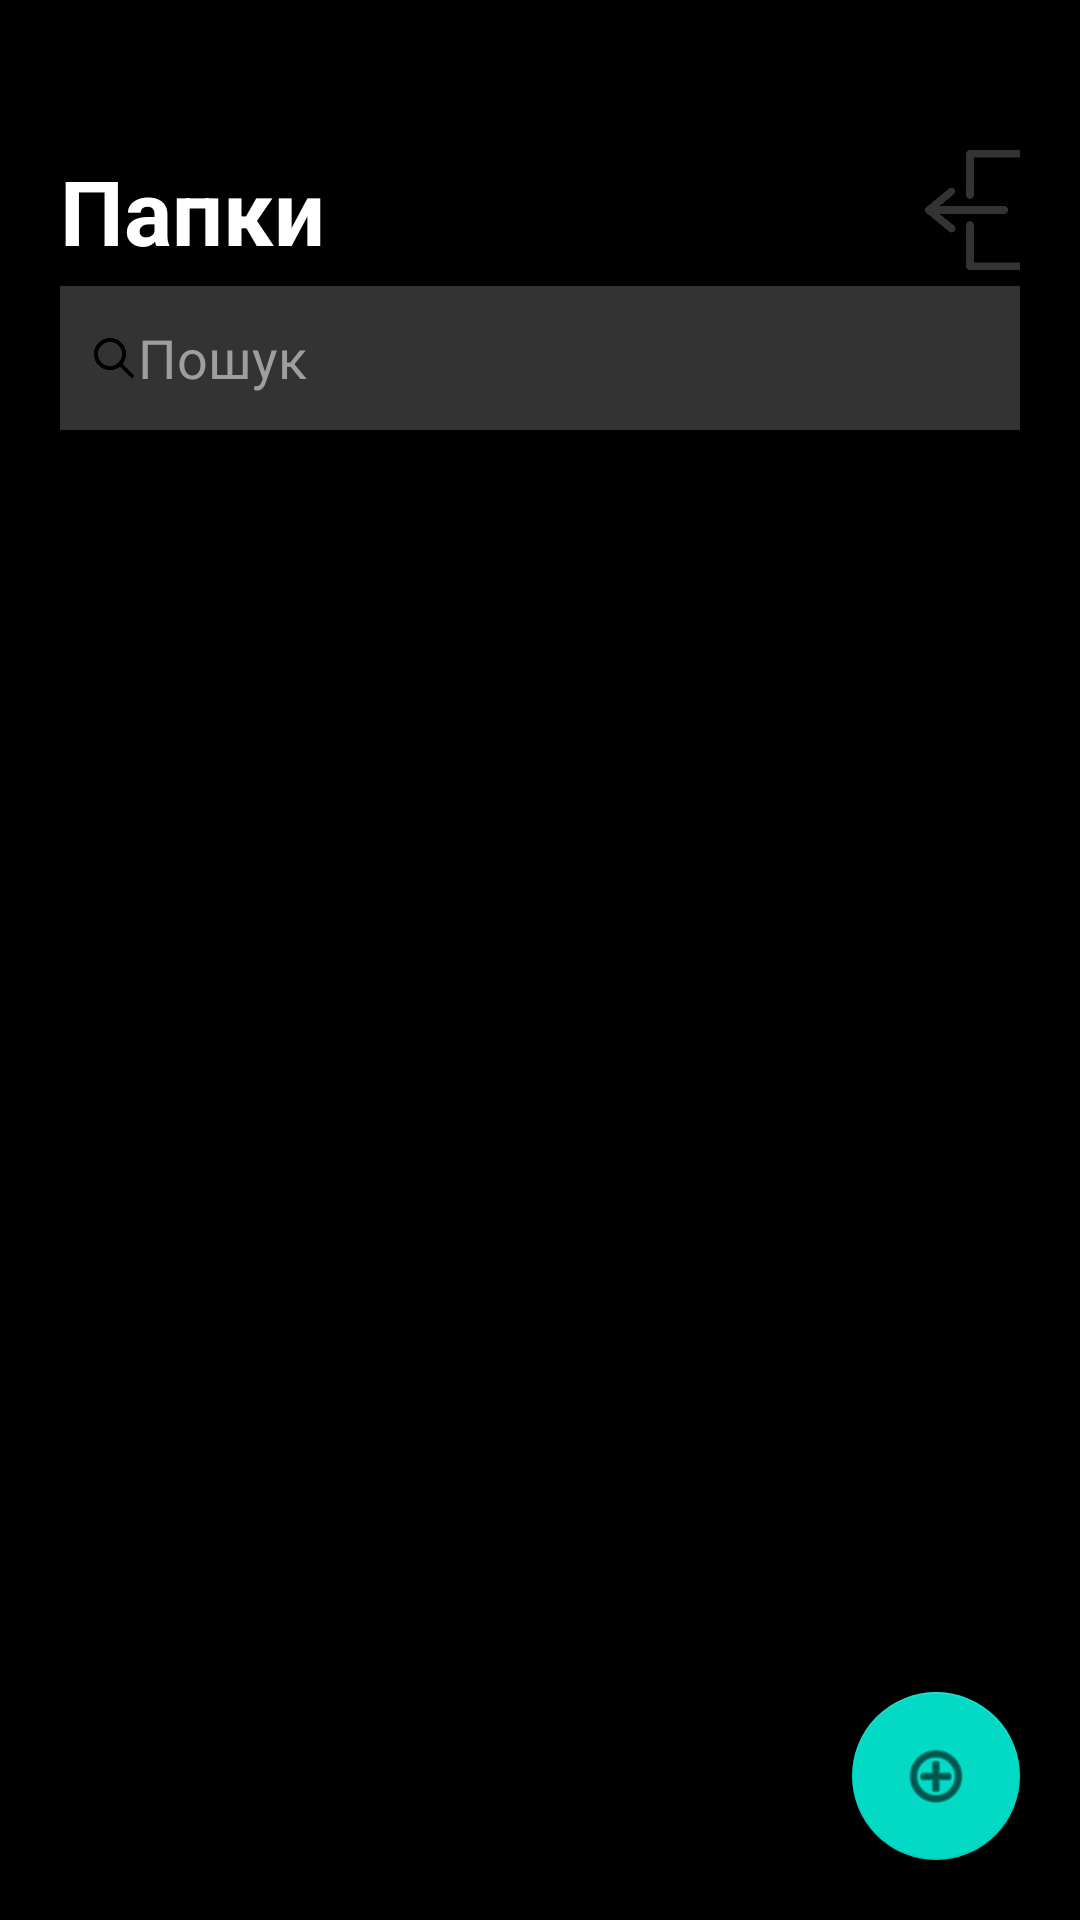

Locate icon controls on the screen. Image size 1080px x 1920px, boxes as (x1, y1, x2, y2).
add new note button: (852, 1692, 1020, 1860)
